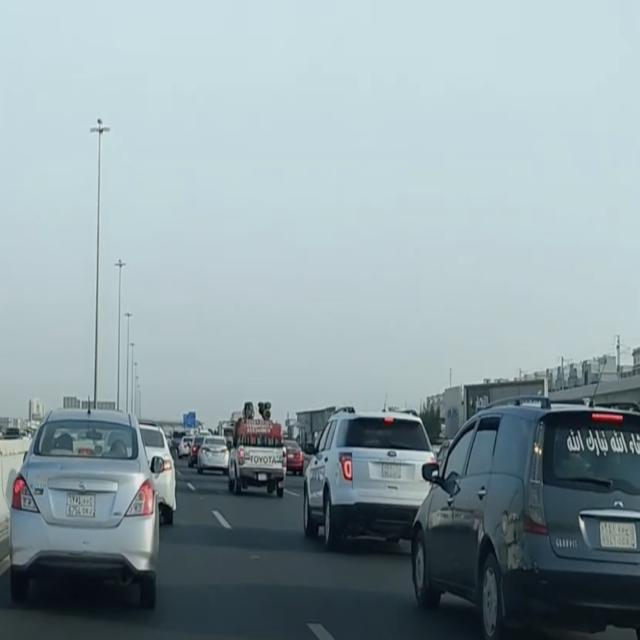license_plate: (599, 522, 638, 550), (66, 493, 96, 518), (382, 462, 402, 479), (258, 473, 267, 481), (212, 452, 218, 458), (288, 454, 294, 458)
